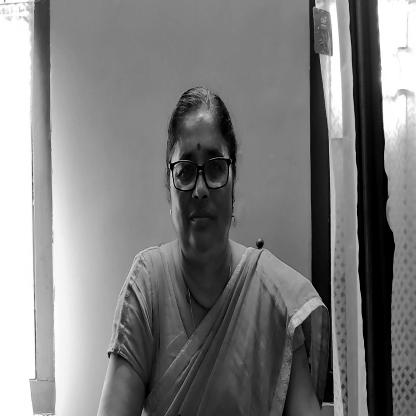Normal: (158, 76, 249, 281)
